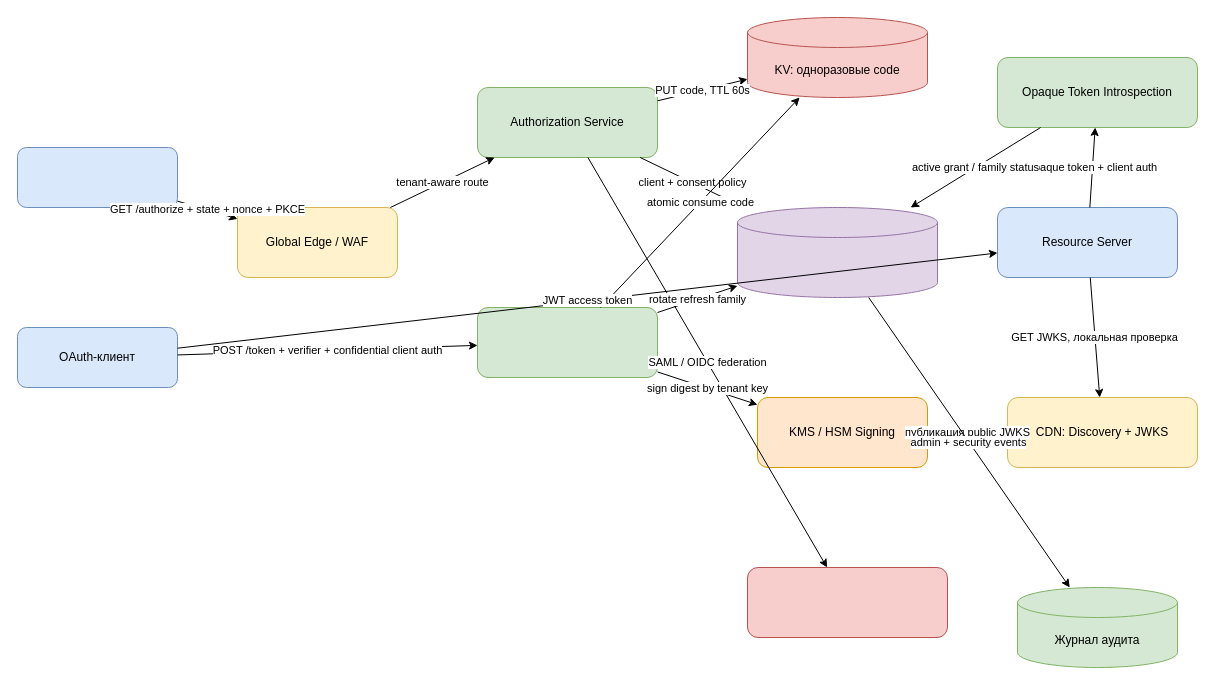
The diagram is 1215 pixels wide and 685 high, and some of its shapes have lost their labels. The shapes that lost their labels are listed below. From the top down, each one's centre as x and y in pixels, then its label:
At [97,177]: "Браузер пользователя".
At [837,252]: "SQL: tenant, consent, token family".
At [567,342]: "Token Service".
At [847,602]: "Внешний SAML / OIDC IdP".
